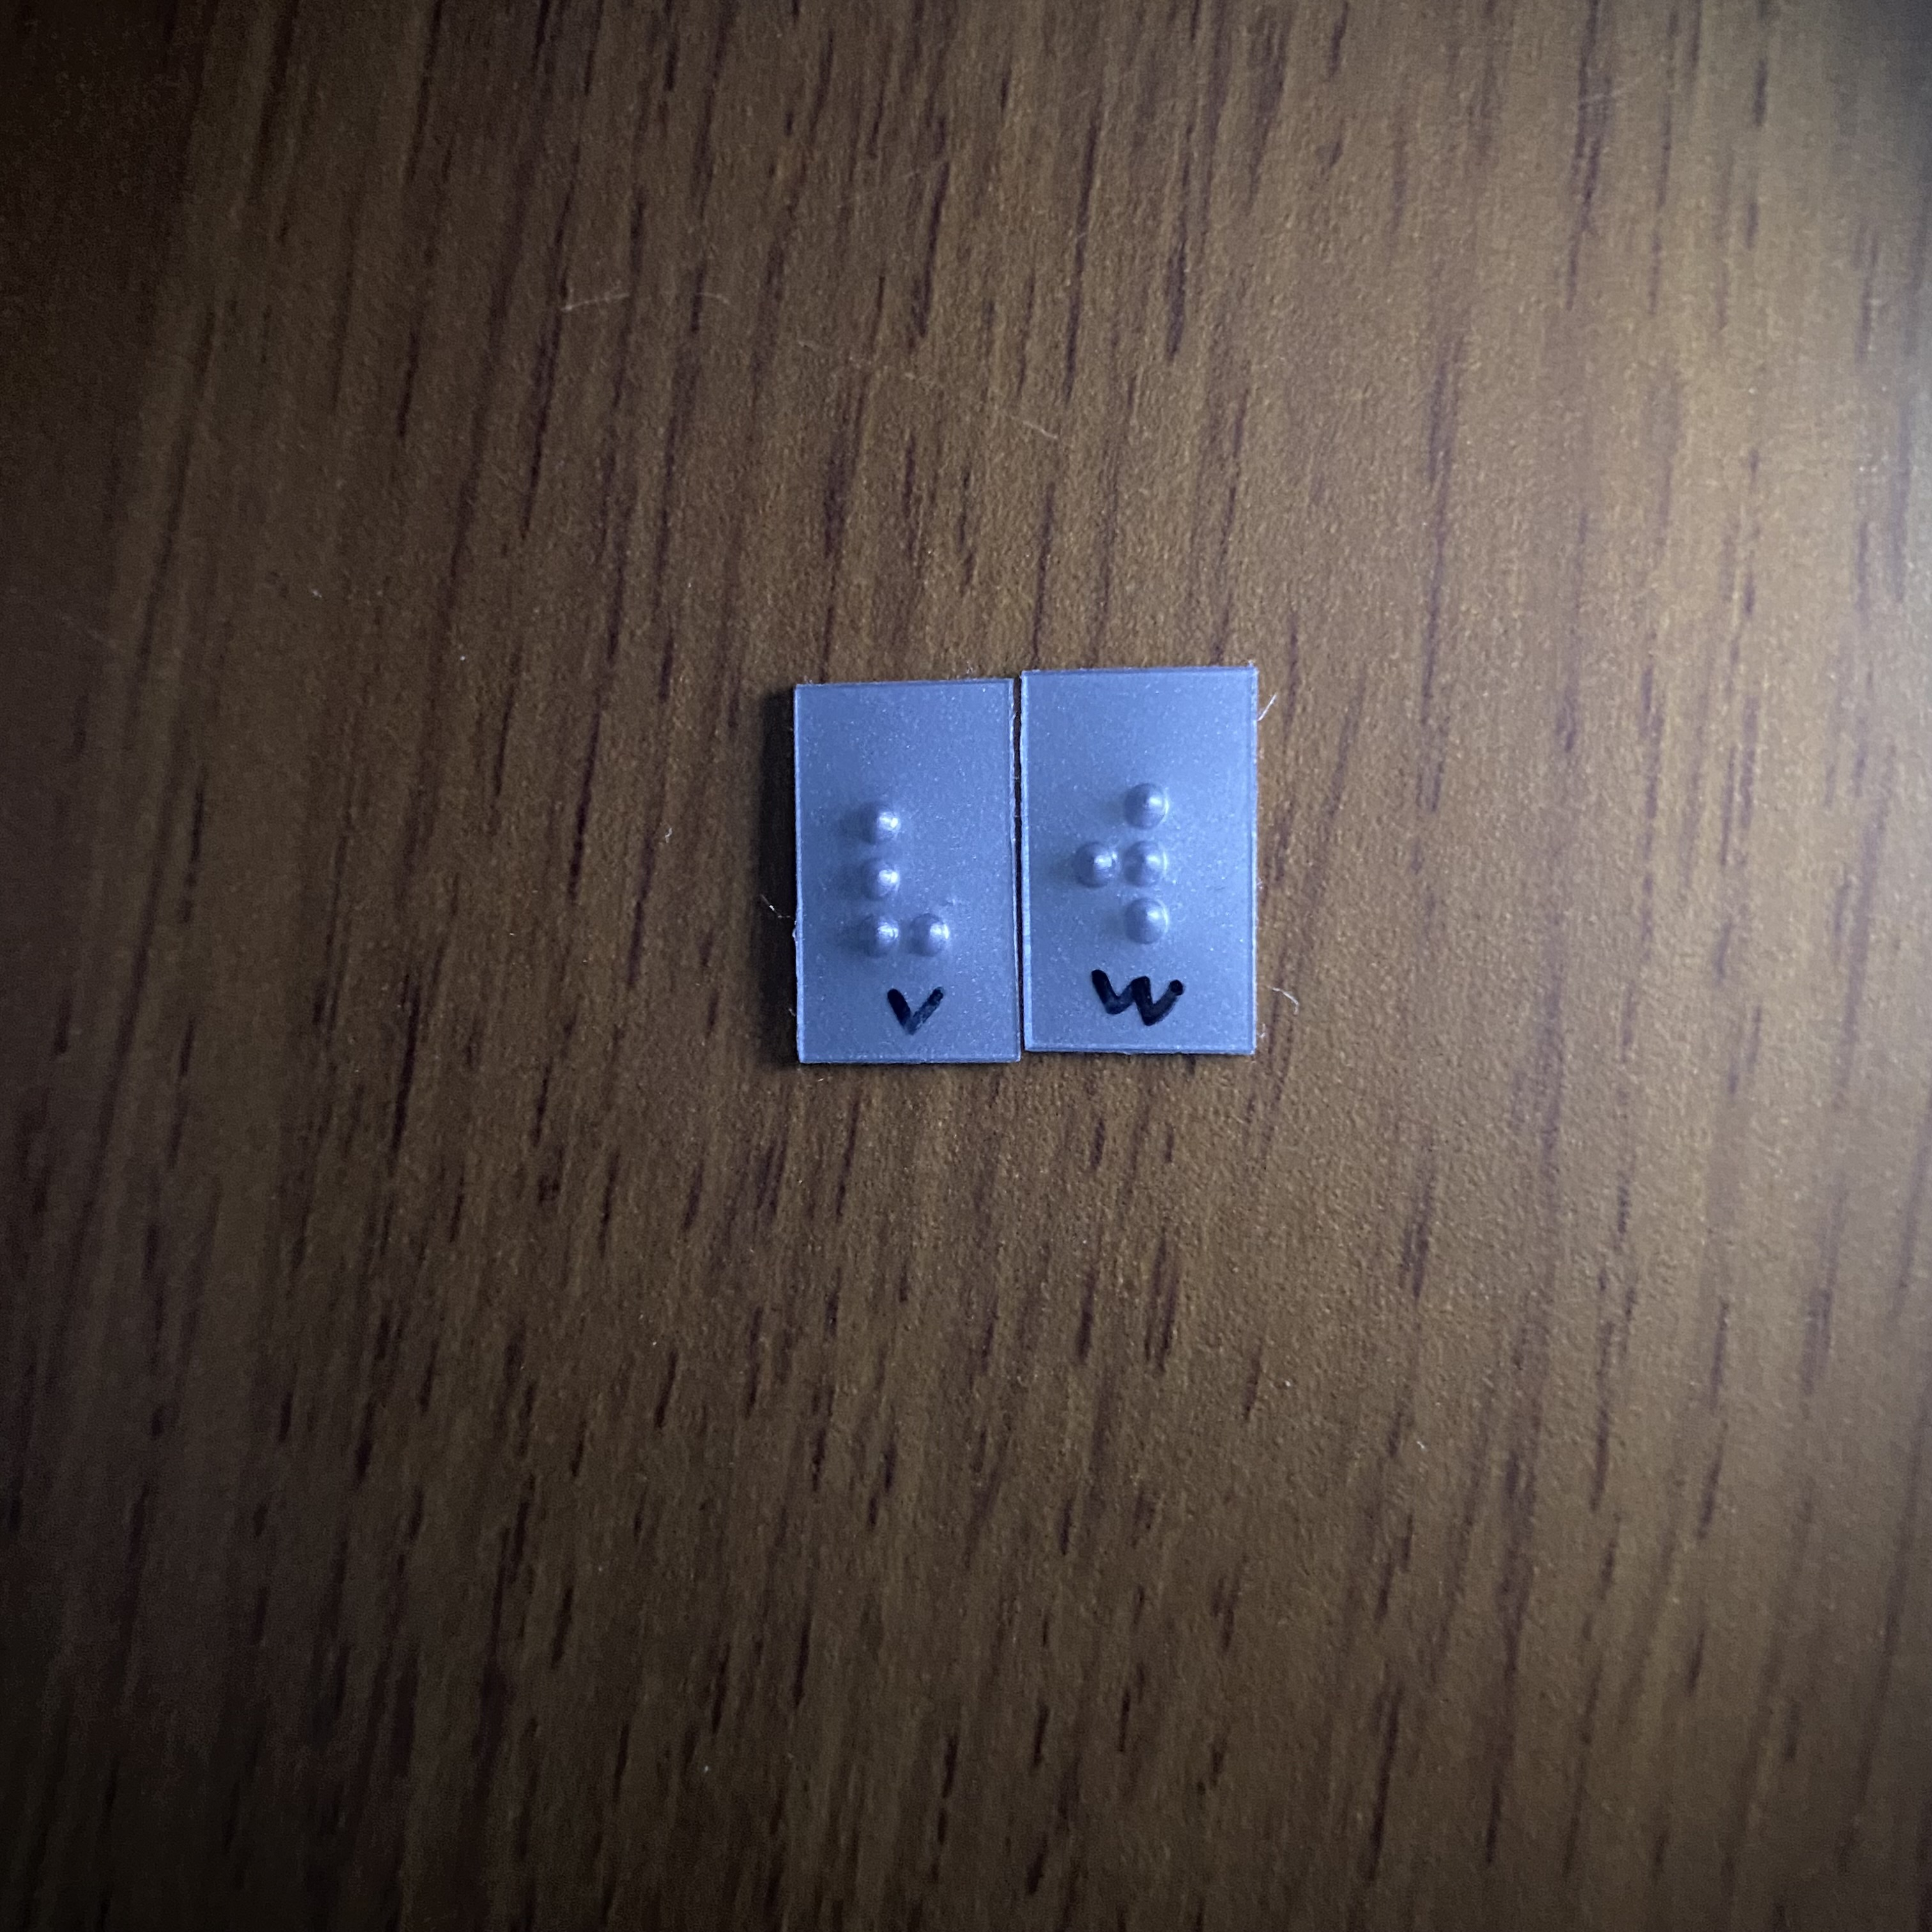v: (836, 778, 970, 974)
w: (1054, 769, 1181, 960)
